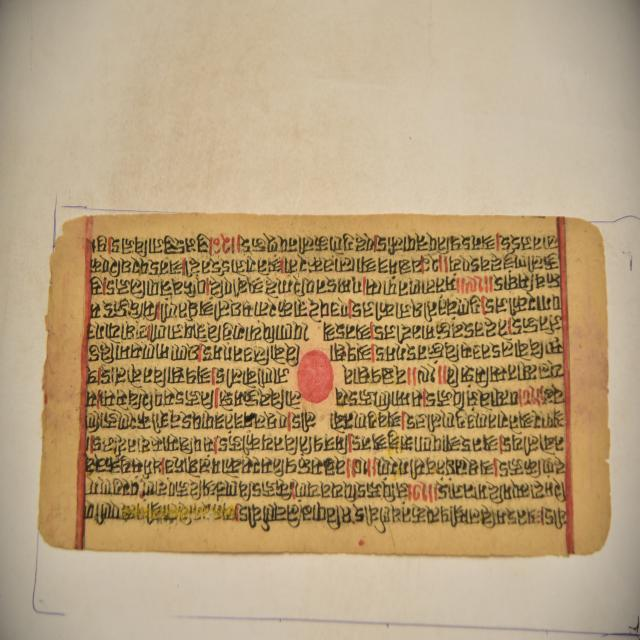text_paragraph: (39, 219, 608, 558)
